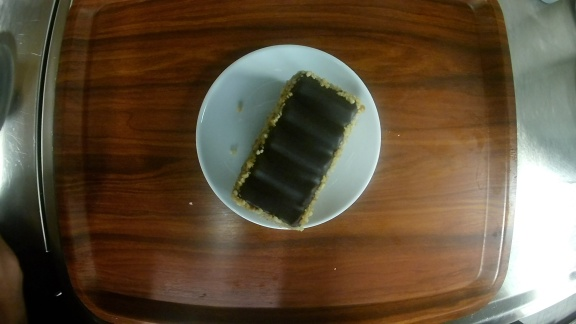muzlupasta: (196, 44, 382, 233)
